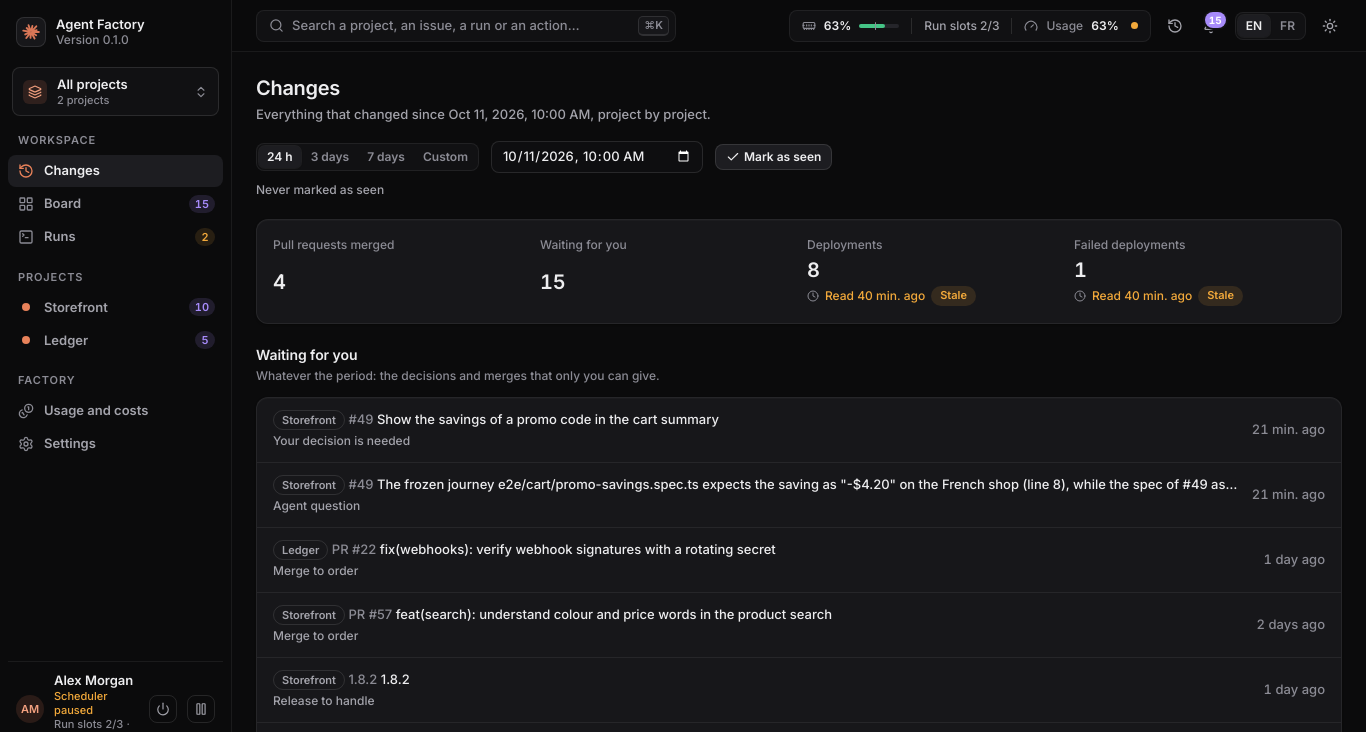
Scenario: NotificationCenter › lists each item with the action it asks for, its project and its age, most urgent first
Click the button named "Notifications: 15 items need you".
click(1211, 26)  # box [1195,10,1227,42]
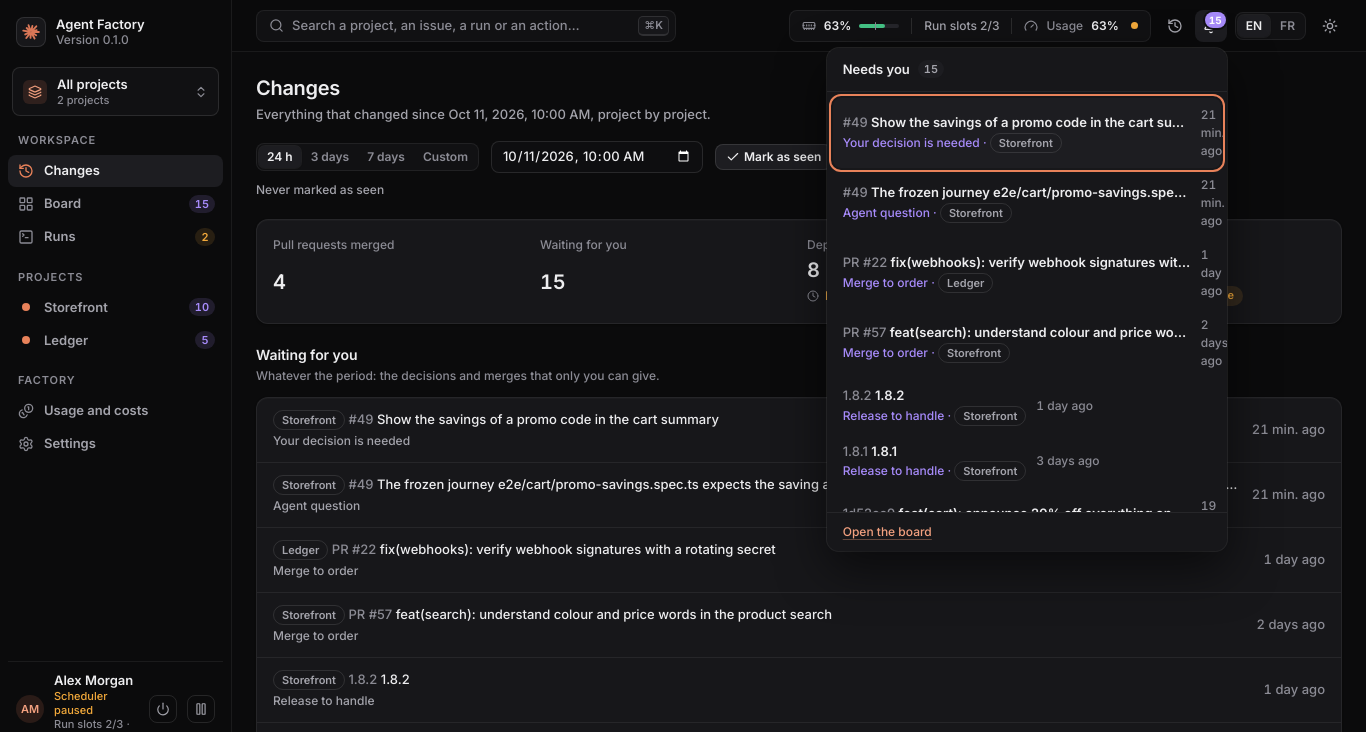
Now the text "Your decision is needed" is shown, box [833,98,1221,168]
Now the text "Storefront" is shown, box [833,98,1221,168]
